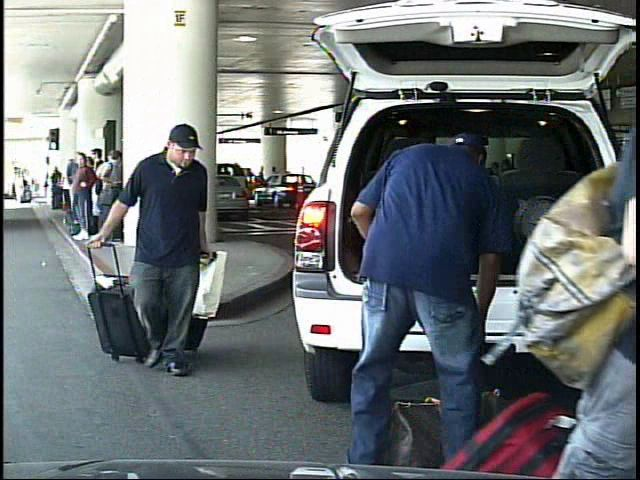person: (314, 112, 500, 476), (89, 119, 229, 390), (14, 172, 25, 203), (257, 163, 267, 177)
